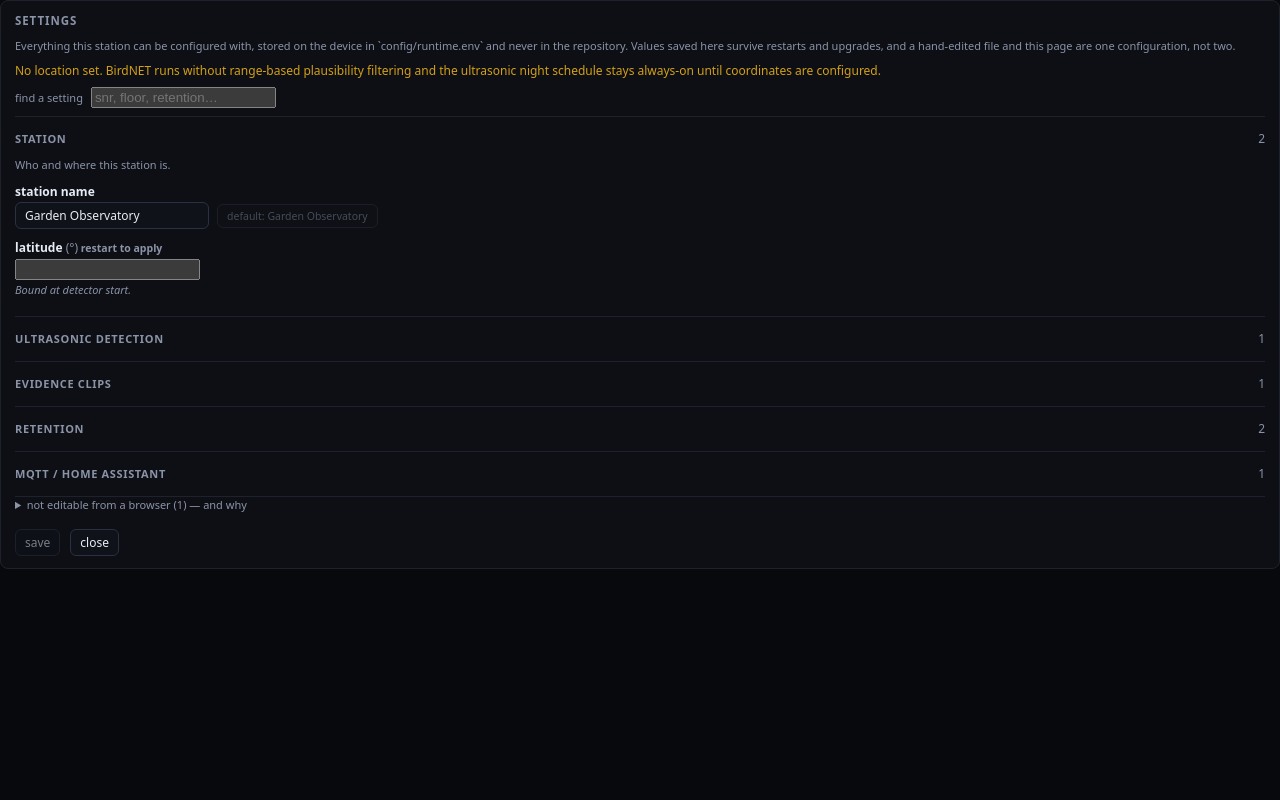
Test: SettingsPanel › reports pending-restart fields verbatim after a save
Type "51.4769" into the number field labelled "latitude (°) restart to apply" at (108, 269), box [15,259,200,280]
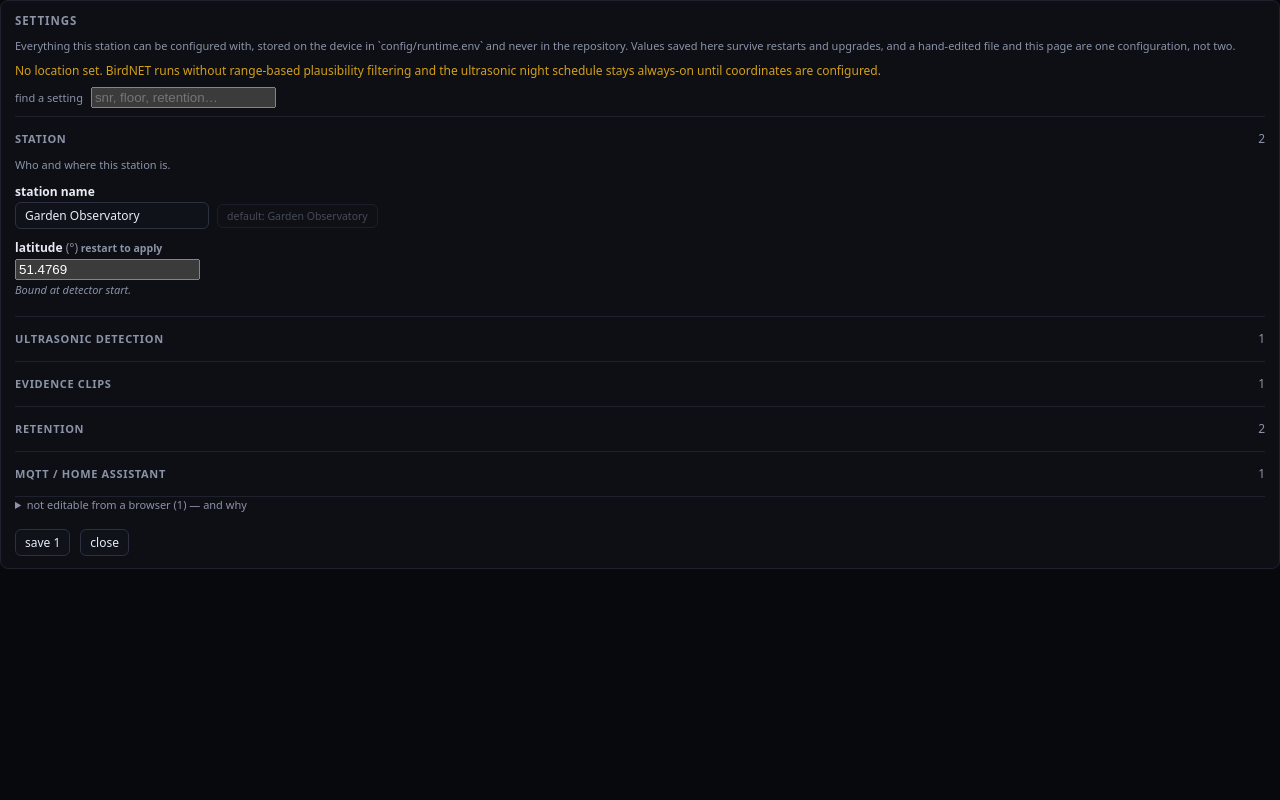
Click the button "save 1" at (43, 542), box [15,529,70,556]
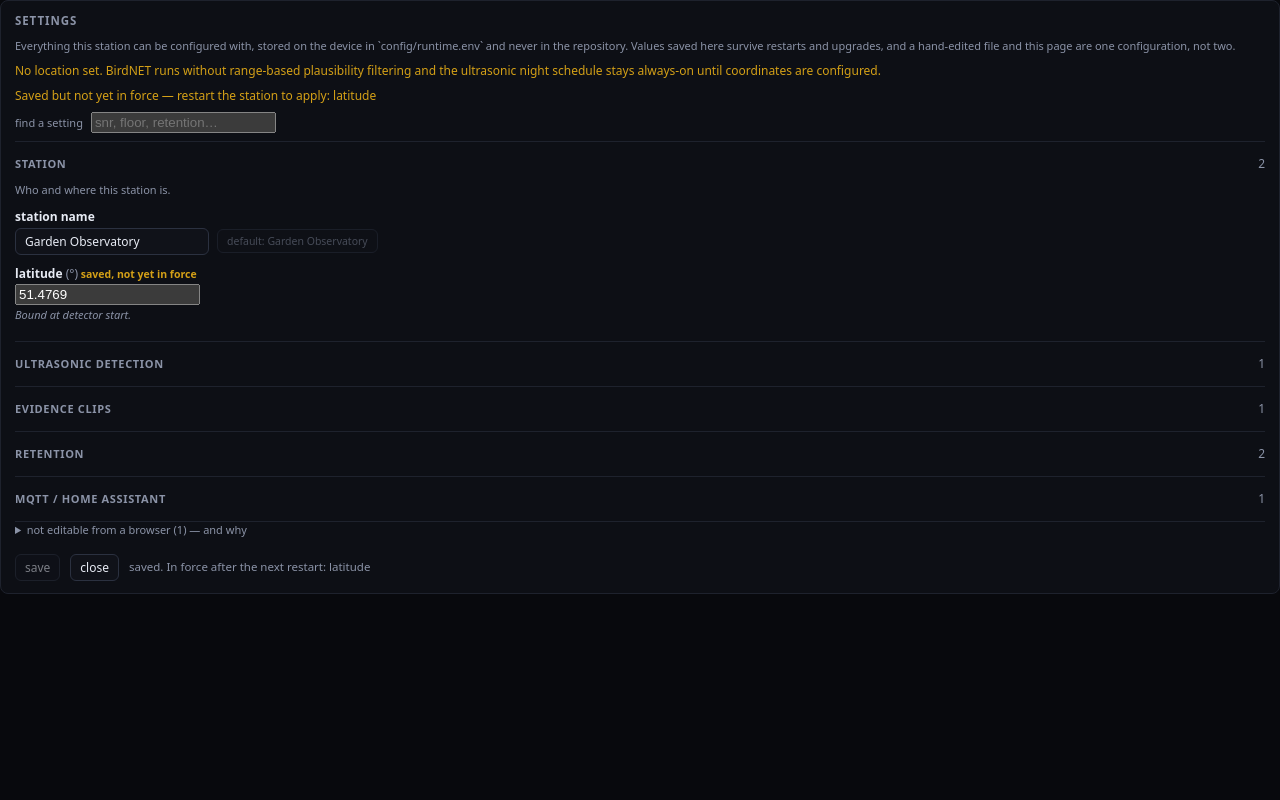
Expected: the text "saved. In force after the next restart: latitude" is shown, [129,559,370,576]
